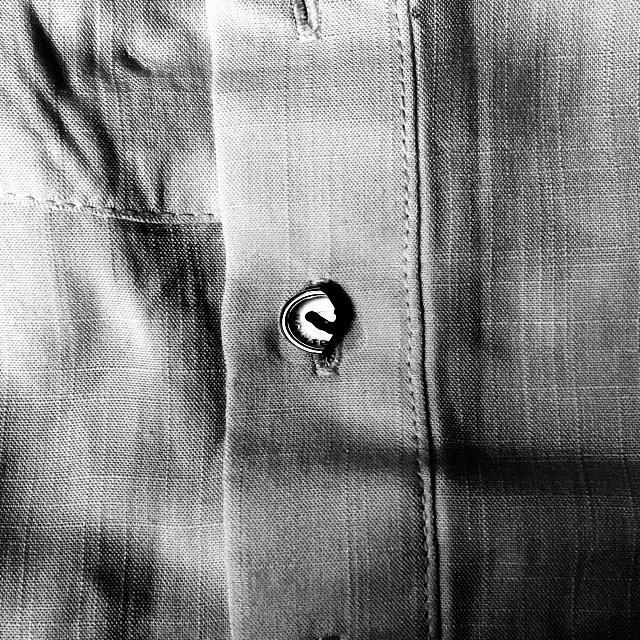Broken_button: (269, 280, 350, 362)
